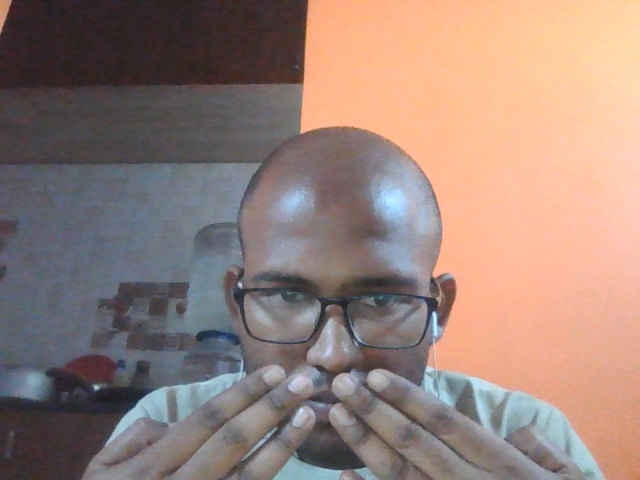thanks: (50, 356, 596, 480)
